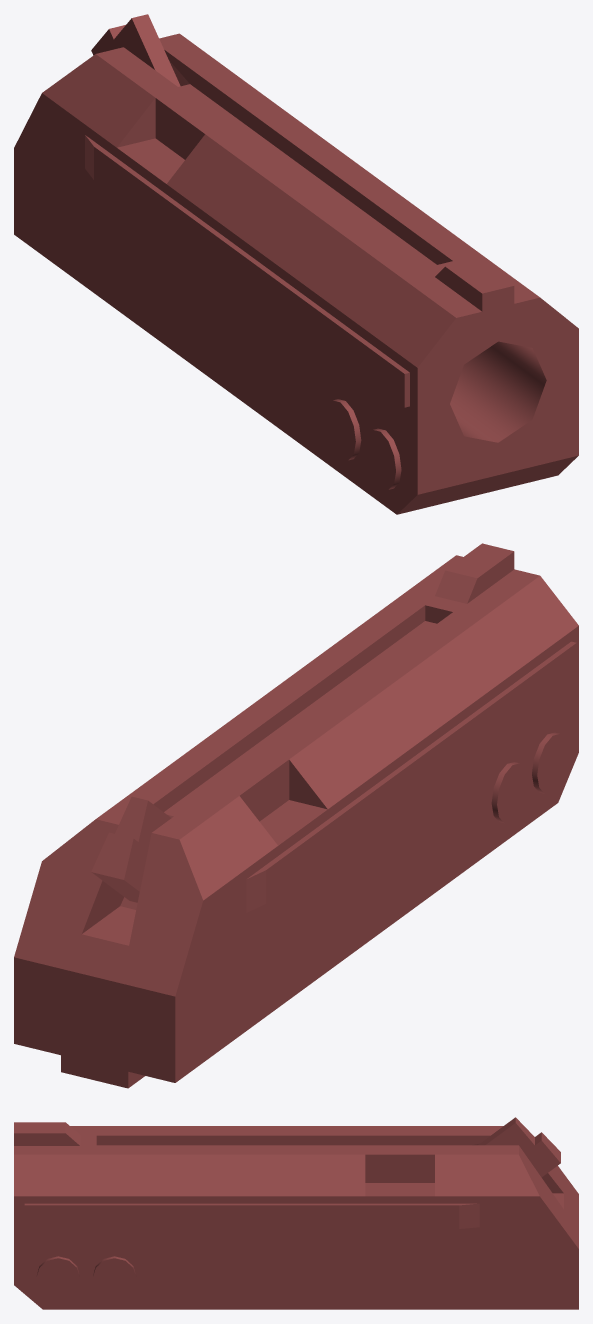
The model's file is WM0_Cannon_x1_LVL2.FBX.
3 views of the same model, one above another, from view 1: azimuth 30°, elevation 25°; view 2: azimuth 150°, elevation 25°; view 3: azimuth 270°, elevation 25° (orthographic). The views are drawn at different scales.
Visible parts, largest first — view 1: WM0_Cannon_x1_LVL2; view 2: WM0_Cannon_x1_LVL2; view 3: WM0_Cannon_x1_LVL2.
Part boxes in pixels (box(x1,y1,x2,y2)): WM0_Cannon_x1_LVL2: box(14, 14, 578, 514); WM0_Cannon_x1_LVL2: box(14, 543, 578, 1088); WM0_Cannon_x1_LVL2: box(14, 1117, 578, 1309).
Size of the model in its own units: 8 by 11.05 by 32.5.
